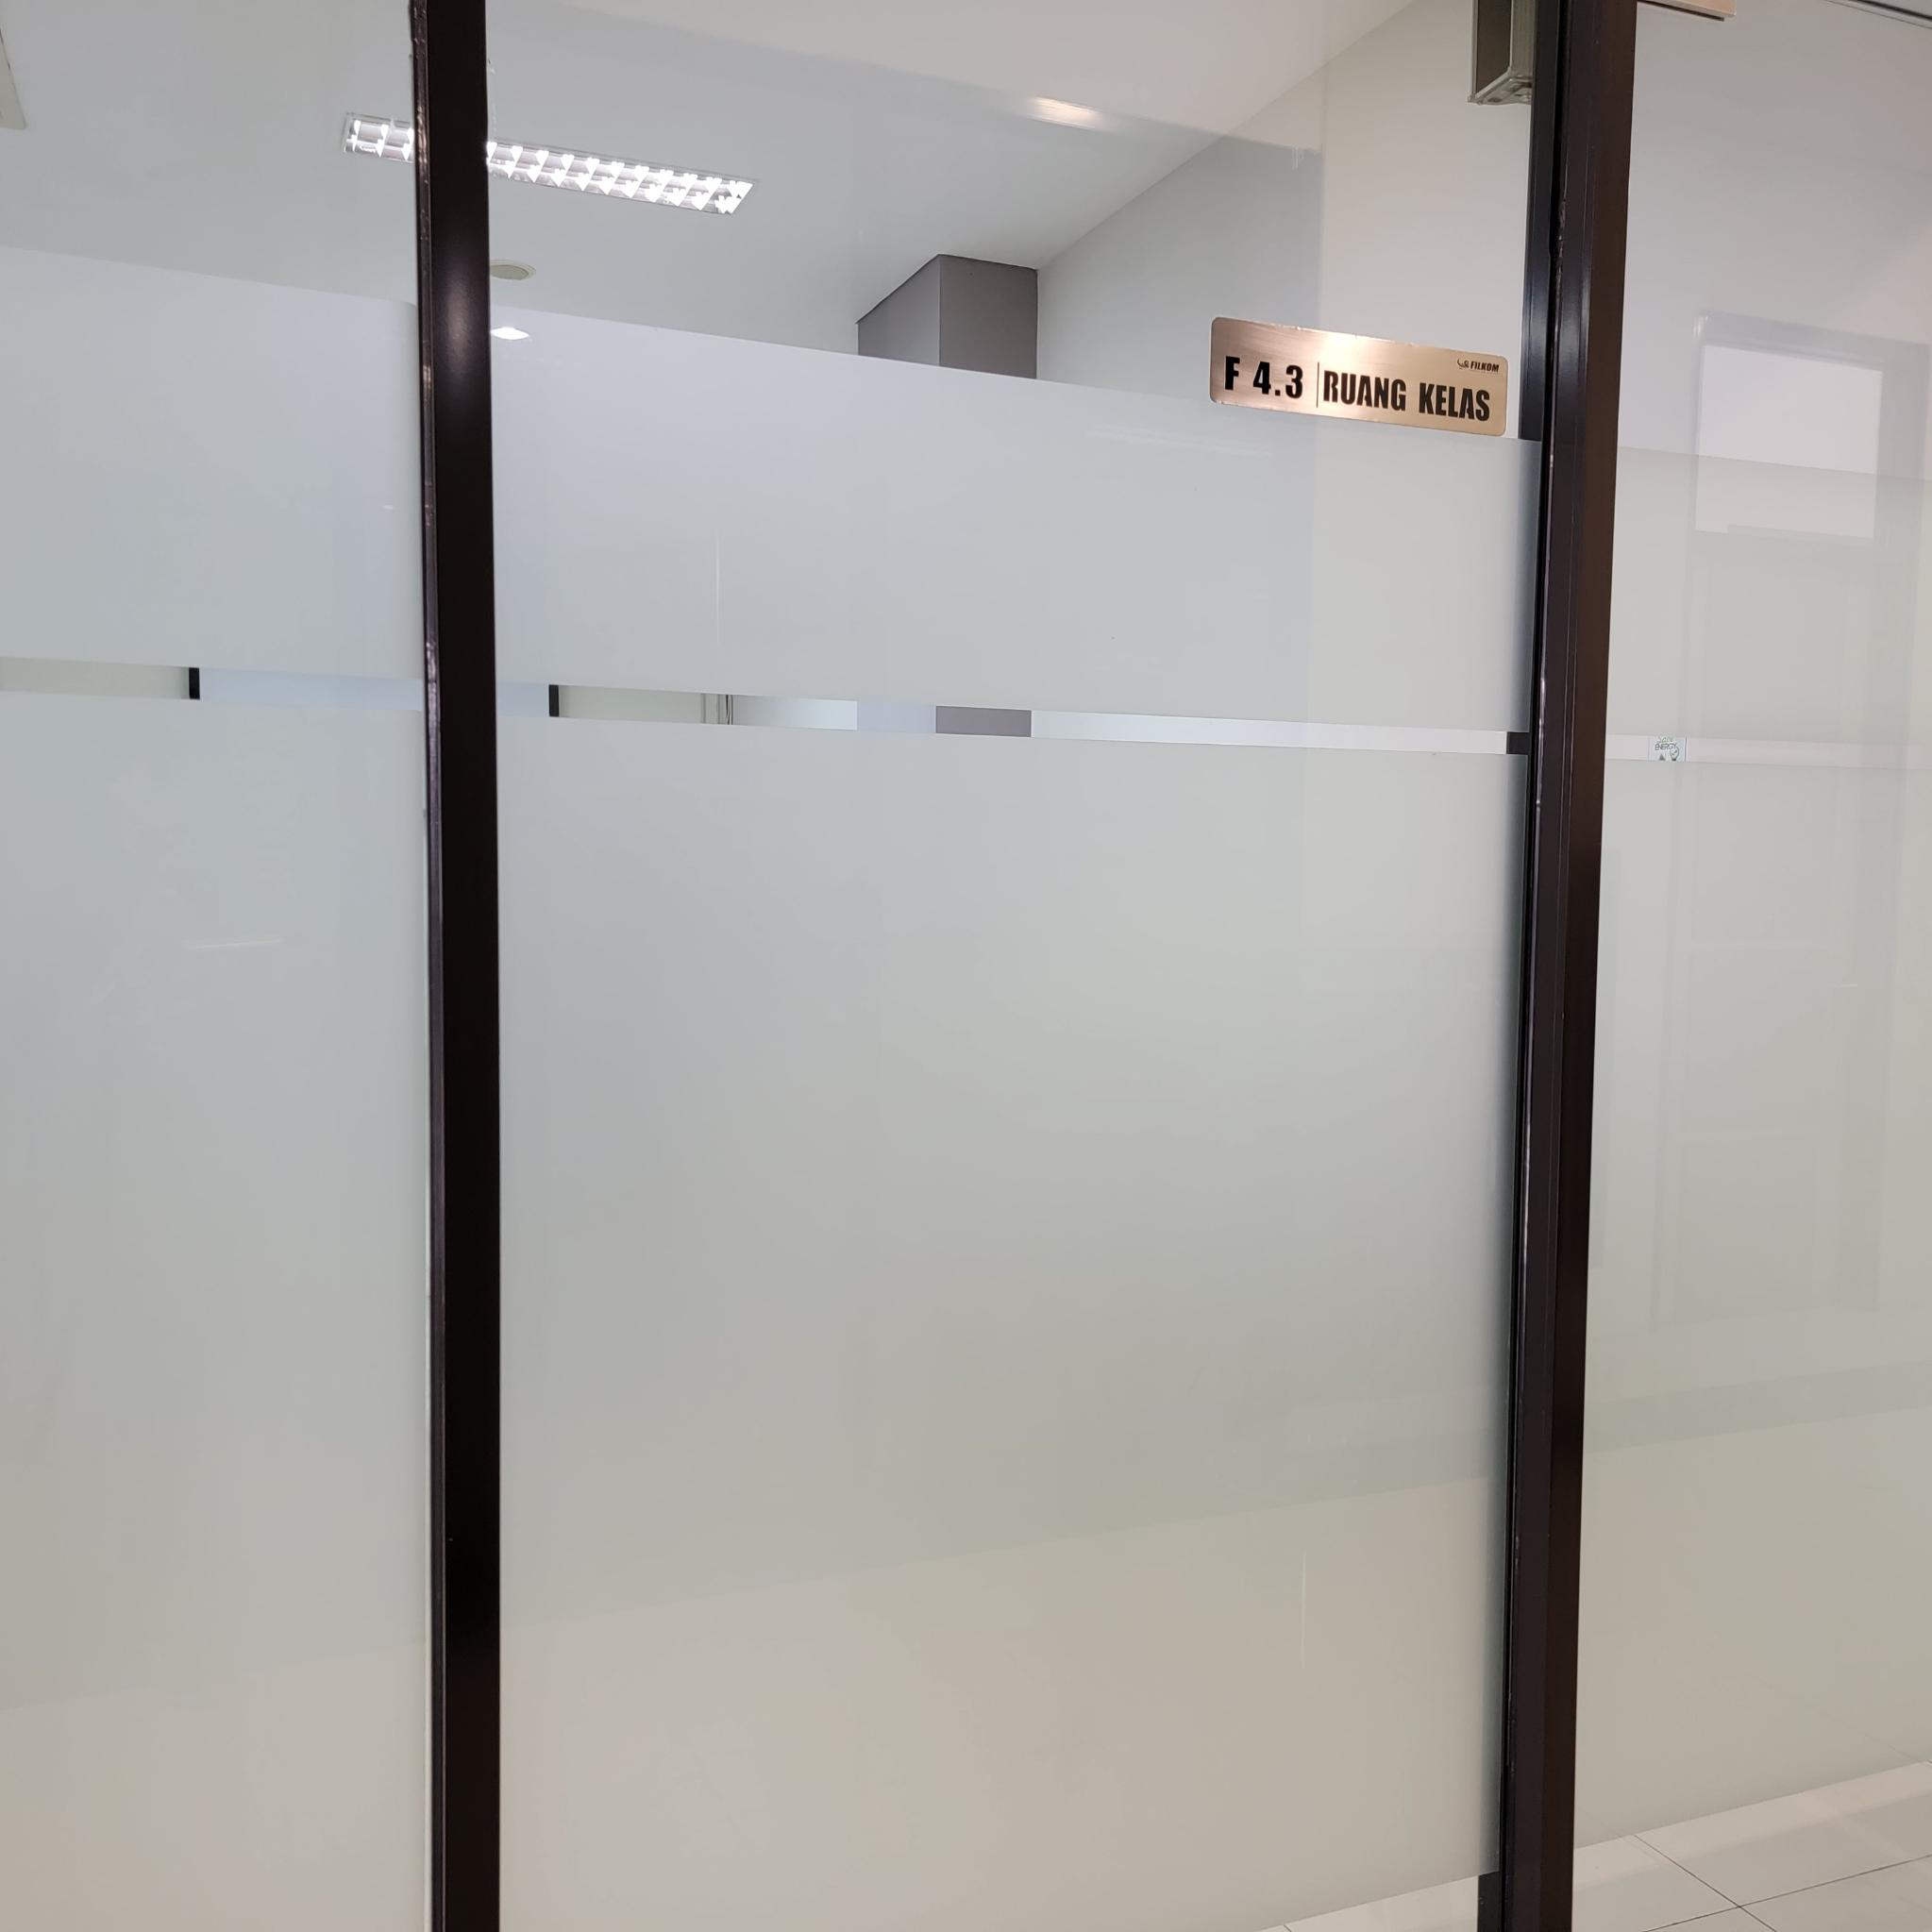plate: (1210, 315, 1511, 441)
